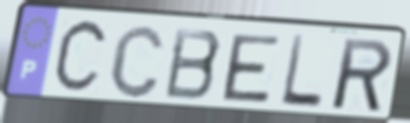B: (161, 25, 224, 102)
C: (49, 16, 111, 99), (107, 22, 167, 101)
E: (221, 32, 283, 105)
L: (277, 32, 325, 111)
R: (331, 36, 395, 115)
